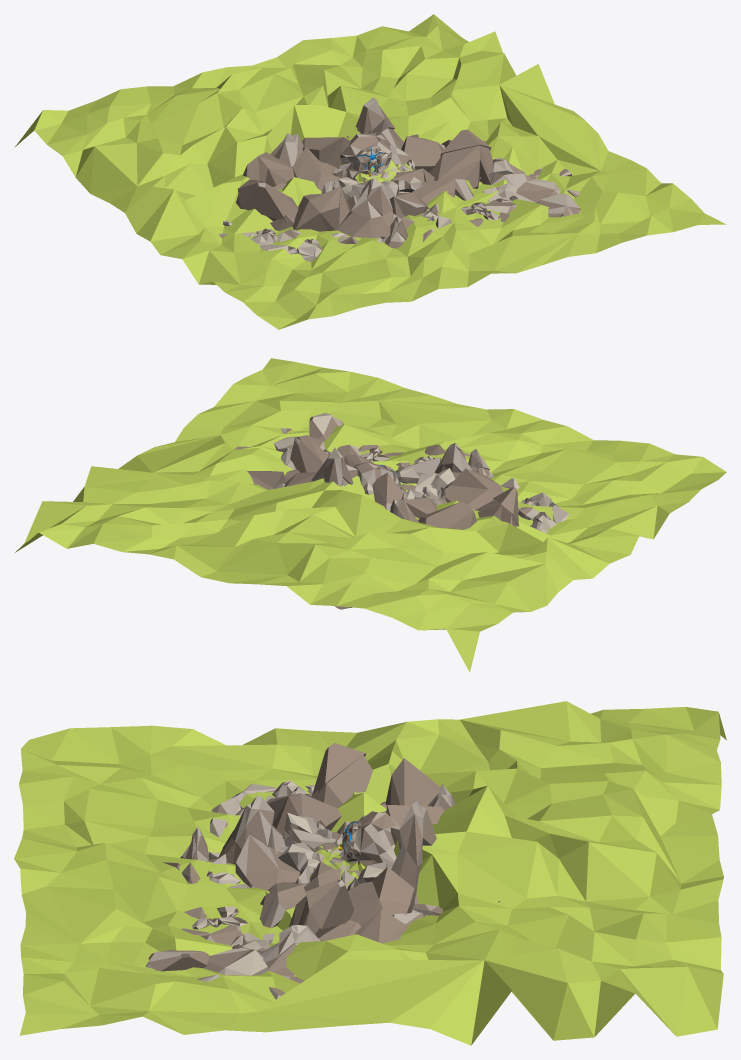
The model's file is RG-Dungeon_Entrance.FBX.
3 views of the same model, one above another, from view 1: azimuth 30°, elevation 25°; view 2: azimuth 150°, elevation 25°; view 3: azimuth 270°, elevation 25° (orthographic). The views are drawn at different scales.
Visible parts, largest first — view 1: RG-Dungeon_Grass-Terrain, RG-Dungeon_Pile-of-stones, RG-Dungeon_Main-Entrance, RG-Dungeon_Forward-Entrance; view 2: RG-Dungeon_Grass-Terrain, RG-Dungeon_Pile-of-stones, RG-Dungeon_Main-Entrance; view 3: RG-Dungeon_Grass-Terrain, RG-Dungeon_Pile-of-stones, RG-Dungeon_Main-Entrance, RG-Dungeon_Forward-Entrance.
Boxes of the visible parts, bbox=[...] form: RG-Dungeon_Grass-Terrain: bbox=[14, 14, 726, 329]; RG-Dungeon_Pile-of-stones: bbox=[219, 97, 580, 261]; RG-Dungeon_Main-Entrance: bbox=[338, 133, 400, 181]; RG-Dungeon_Forward-Entrance: bbox=[354, 141, 391, 175]; RG-Dungeon_Grass-Terrain: bbox=[15, 358, 726, 672]; RG-Dungeon_Pile-of-stones: bbox=[234, 413, 569, 609]; RG-Dungeon_Main-Entrance: bbox=[354, 461, 405, 494]; RG-Dungeon_Grass-Terrain: bbox=[14, 701, 726, 1045]; RG-Dungeon_Pile-of-stones: bbox=[145, 742, 499, 999]; RG-Dungeon_Main-Entrance: bbox=[329, 811, 400, 876]; RG-Dungeon_Forward-Entrance: bbox=[339, 820, 361, 862].
Size of the model in its own units: 529 by 107 by 525.
